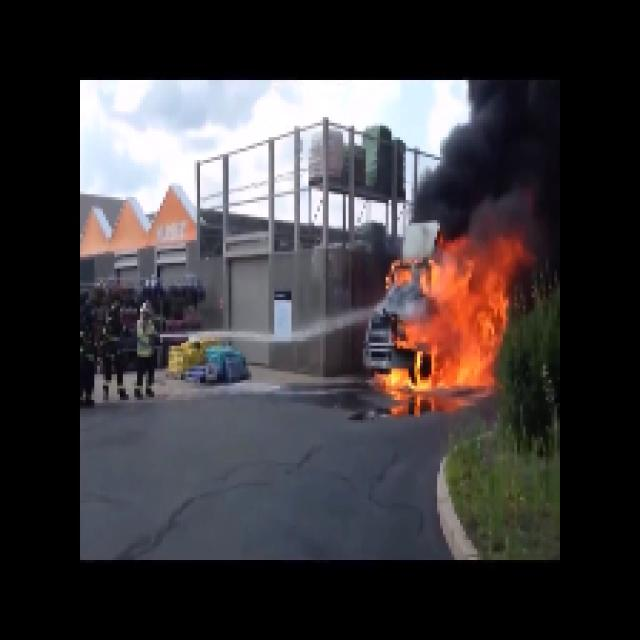fire: (407, 252, 503, 399)
smoke: (466, 89, 554, 238)
